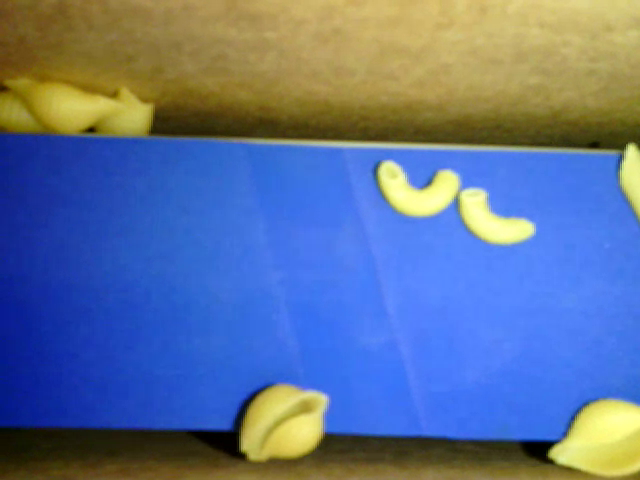elbow: (377, 157, 460, 219), (462, 186, 533, 248)
penne: (615, 143, 639, 220)
shell: (542, 398, 639, 479), (4, 74, 127, 134), (239, 383, 331, 463), (86, 85, 155, 141), (1, 91, 55, 137)
